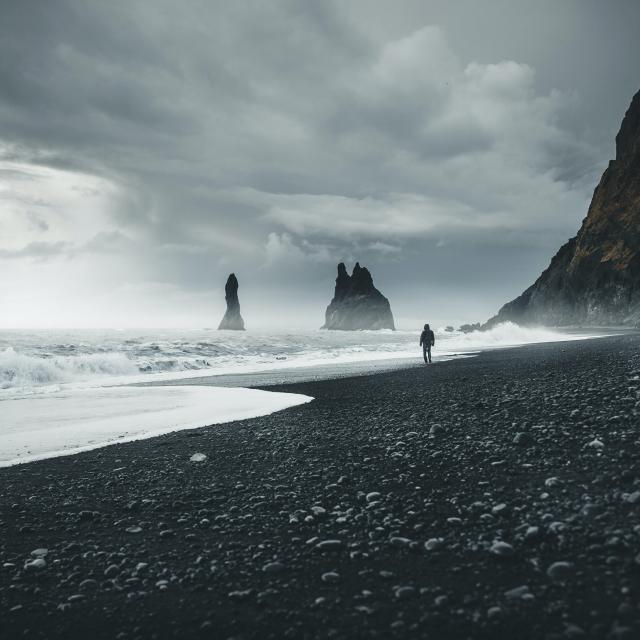adult: (419, 323, 435, 366)
